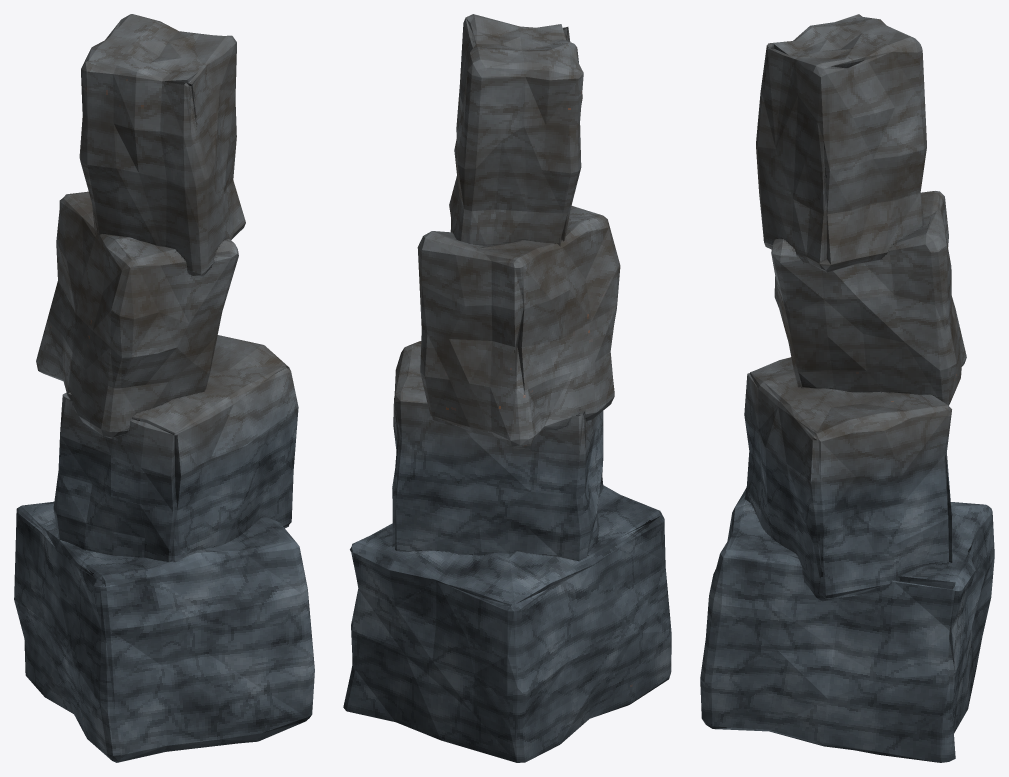
The model's file is snow_crag_a.glb.
The picture shows the model from 3 angles, left to right: view 1: azimuth 30°, elevation 25°; view 2: azimuth 150°, elevation 25°; view 3: azimuth 270°, elevation 25°; orthographic projection.
Visible parts, largest first — view 1: snow_crag_a; view 2: snow_crag_a; view 3: snow_crag_a.
Part boxes in pixels (x1,y1,x2,y2): snow_crag_a: [14, 14, 314, 762]; snow_crag_a: [343, 14, 671, 762]; snow_crag_a: [700, 14, 994, 762].
Size of the model in its own units: 1.92 by 5.27 by 2.11.
1 material, 1 textured.
